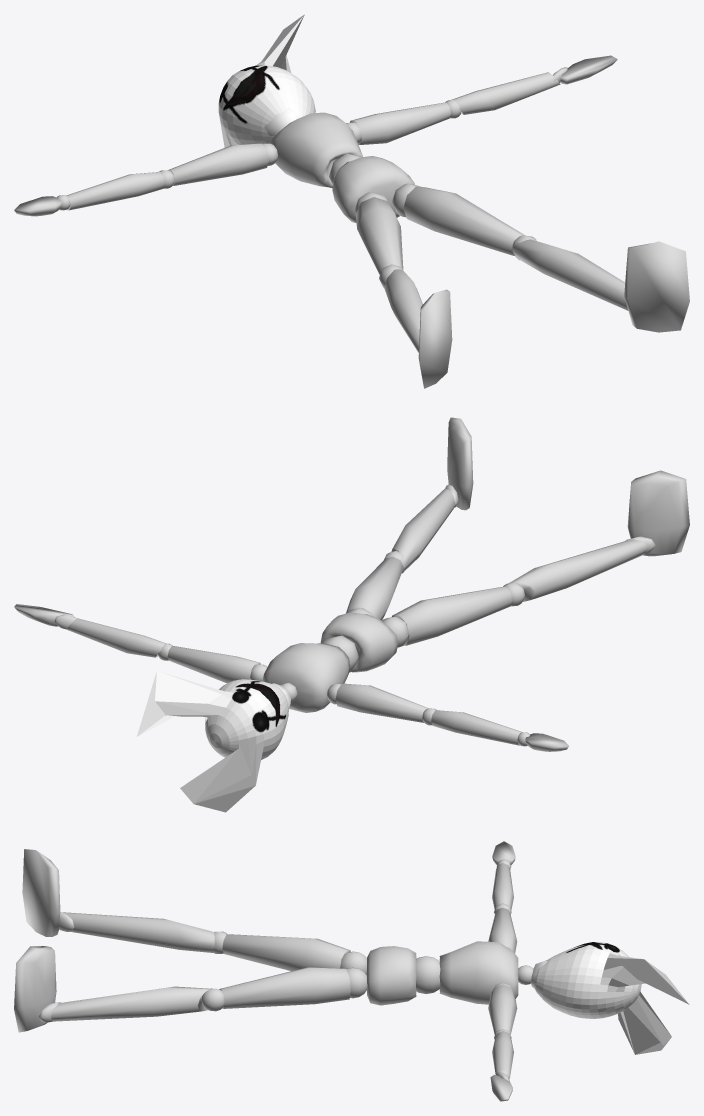
The model's file is monster.glb.
The picture shows the model from 3 angles, top to bottom: view 1: azimuth 30°, elevation 25°; view 2: azimuth 150°, elevation 25°; view 3: azimuth 270°, elevation 25°; orthographic projection. The views are drawn at different scales.
Visible parts, largest first — view 1: Sphere.008, Sphere.014, Cylinder.003, Cylinder.006, Cylinder.002, Cylinder.007, Cylinder.001, Sphere, Cylinder.004, Cylinder.009, Cylinder.008, Cylinder.005 (+3 smaller); view 2: Sphere.008, Cylinder.003, Sphere, Cylinder.001, Cylinder.002, Cylinder, Cylinder.004, Cylinder.007, Cylinder.009, Cylinder.006, Sphere.014, Cylinder.008 (+3 smaller); view 3: Sphere.008, Cylinder.002, Cylinder.006, Cylinder.003, Cylinder.007, Cylinder, Cylinder.001, Sphere.014, Sphere, Cylinder.009, Cylinder.004, Cylinder.008 (+3 smaller).
Part boxes in pixels (bbox=[...]): Sphere.008: bbox=[218, 14, 315, 147]; Sphere.014: bbox=[624, 241, 689, 332]; Cylinder.003: bbox=[263, 112, 362, 188]; Cylinder.006: bbox=[403, 186, 536, 260]; Cylinder.002: bbox=[329, 153, 420, 223]; Cylinder.007: bbox=[512, 239, 628, 310]; Cylinder.001: bbox=[355, 197, 403, 287]; Sphere: bbox=[418, 289, 452, 388]; Cylinder.004: bbox=[159, 143, 268, 188]; Cylinder.009: bbox=[350, 100, 461, 144]; Cylinder.008: bbox=[451, 72, 560, 114]; Cylinder.005: bbox=[66, 172, 164, 210]; Sphere.008: bbox=[137, 671, 291, 812]; Cylinder.003: bbox=[250, 643, 349, 712]; Sphere: bbox=[625, 470, 689, 556]; Cylinder.001: bbox=[392, 583, 524, 645]; Cylinder.002: bbox=[320, 608, 408, 672]; Cylinder: bbox=[509, 539, 648, 601]; Cylinder.004: bbox=[335, 683, 437, 725]; Cylinder.007: bbox=[391, 489, 455, 572]; Cylinder.009: bbox=[158, 643, 260, 683]; Cylinder.006: bbox=[346, 550, 404, 620]; Sphere.014: bbox=[445, 417, 473, 510]; Cylinder.008: bbox=[66, 618, 166, 657]; Sphere.008: bbox=[531, 942, 689, 1054]; Cylinder.002: bbox=[340, 946, 440, 1005]; Cylinder.006: bbox=[201, 967, 350, 1011]; Cylinder.003: bbox=[439, 941, 533, 1004]; Cylinder.007: bbox=[51, 986, 210, 1021]; Cylinder: bbox=[63, 912, 220, 952]; Cylinder.001: bbox=[213, 931, 350, 971]; Sphere.014: bbox=[14, 946, 61, 1032]; Sphere: bbox=[22, 849, 74, 936]; Cylinder.009: bbox=[488, 984, 517, 1039]; Cylinder.004: bbox=[488, 903, 517, 952]; Cylinder.008: bbox=[492, 1031, 513, 1079].
Bounding box in the file's own units: 15.22 × 3.88 × 16.48.
2 materials, 1 textured.
